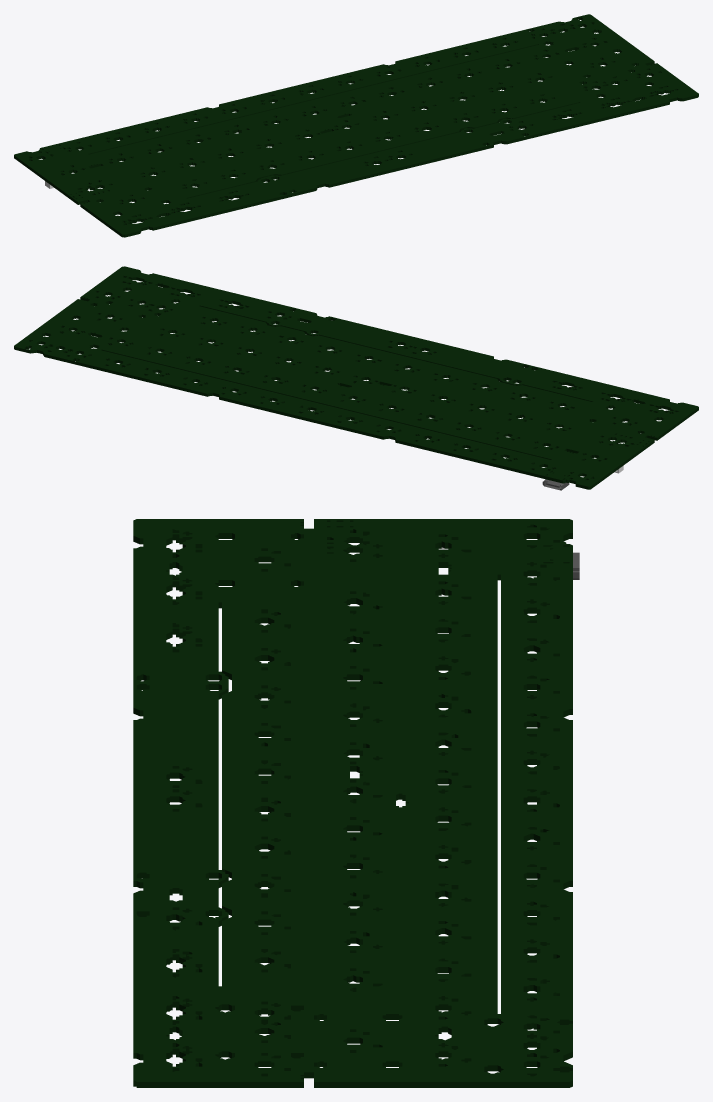
File: common60.glb
3 views of the same model, one above another, from view 1: azimuth 30°, elevation 25°; view 2: azimuth 150°, elevation 25°; view 3: azimuth 270°, elevation 25° (orthographic). The views are drawn at different scales.
Visible parts, largest first — view 1: common60; view 2: common60; view 3: common60.
Part boxes in pixels (x1,y1,x2,y2): common60: (14,14,698,237); common60: (14,266,698,490); common60: (133,519,579,1087).
Size of the model in its own units: 284 by 4.2 by 95.2.
